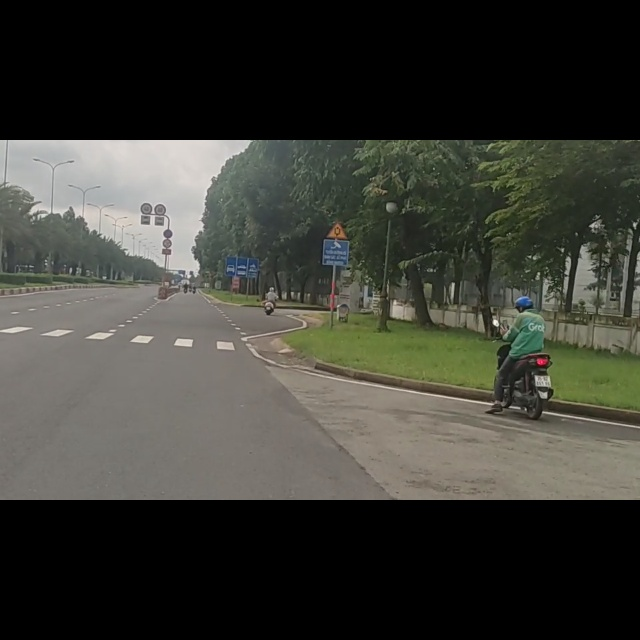bien_cam: (323, 143, 352, 178)
